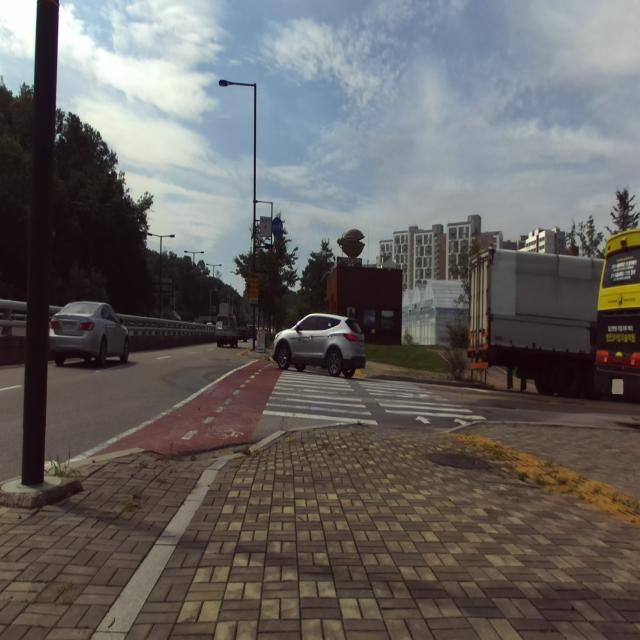횡단보도: (262, 368, 487, 424)
